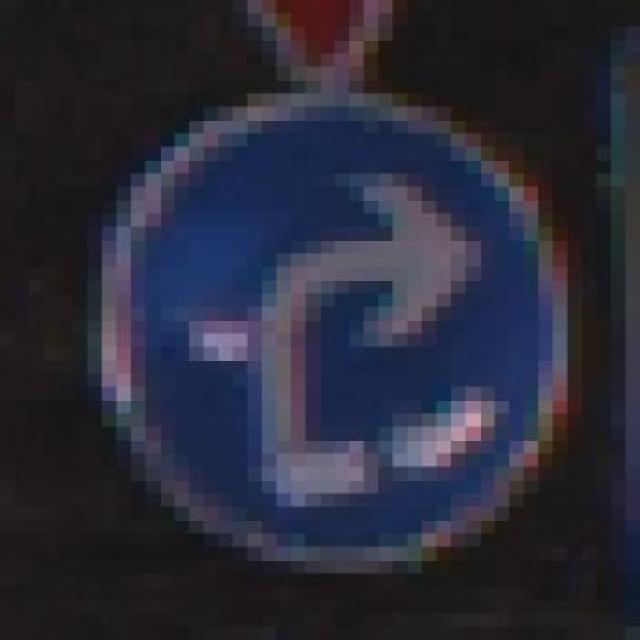Turn right ahead: (87, 53, 582, 587)
